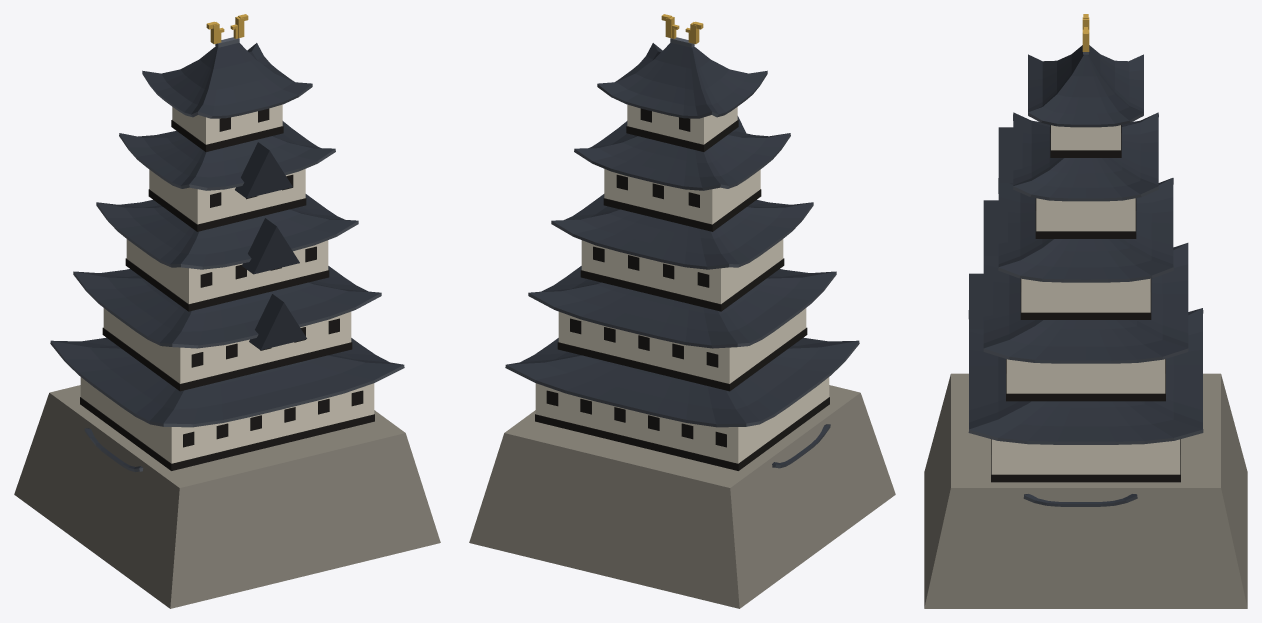
The model's file is stage-kit.glb.
3 views of the same model, side by side, from view 1: azimuth 30°, elevation 25°; view 2: azimuth 150°, elevation 25°; view 3: azimuth 270°, elevation 25° (orthographic). The views are drawn at different scales.
Parts seen in each view (by area): view 1: CastleKeepMesh; view 2: CastleKeepMesh; view 3: CastleKeepMesh, CastleGateMesh.
Boxes of the visible parts, left/top/right/bottom form: CastleKeepMesh: left=14, top=14, right=440, bottom=608; CastleKeepMesh: left=469, top=14, right=895, bottom=608; CastleKeepMesh: left=924, top=14, right=1247, bottom=608; CastleGateMesh: left=1023, top=494, right=1137, bottom=506.
Size of the model in its own units: 24.04 by 42.42 by 24.04.
